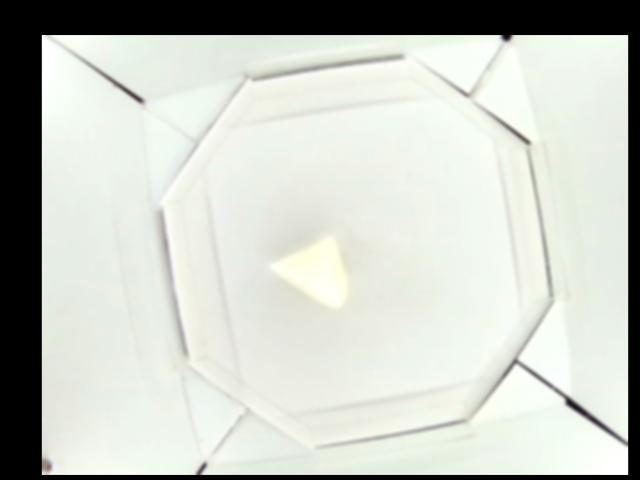Mooli: (270, 236, 345, 310)
